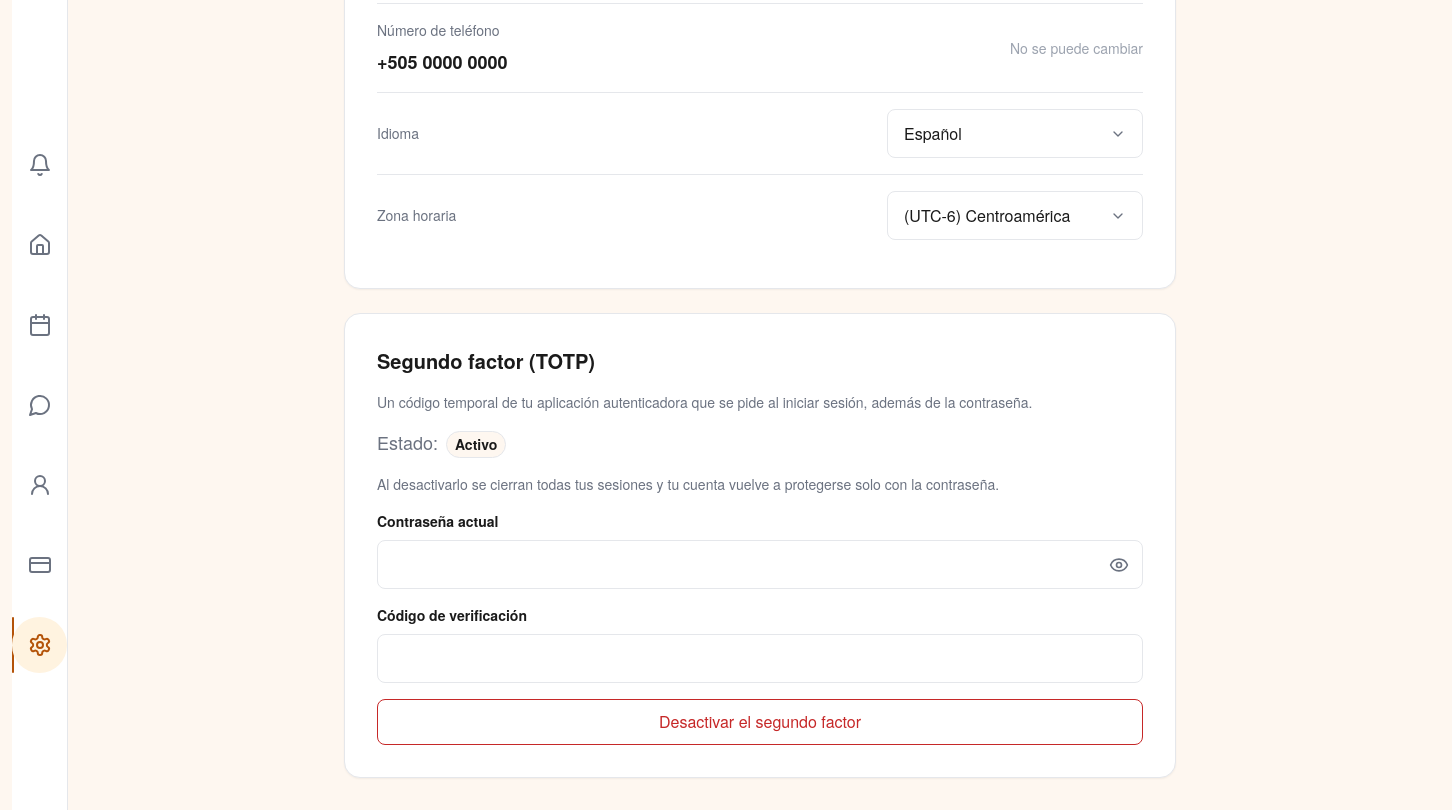
Test case: seguridad de la cuenta › segundo factor › ofrece desactivarlo cuando ya está activo y devuelve al inicio de sesión
(page scrolled)
Type "Moica2026$segura" into the password field labelled "Contraseña actual" at (760, 564), box [377,540,1143,589]
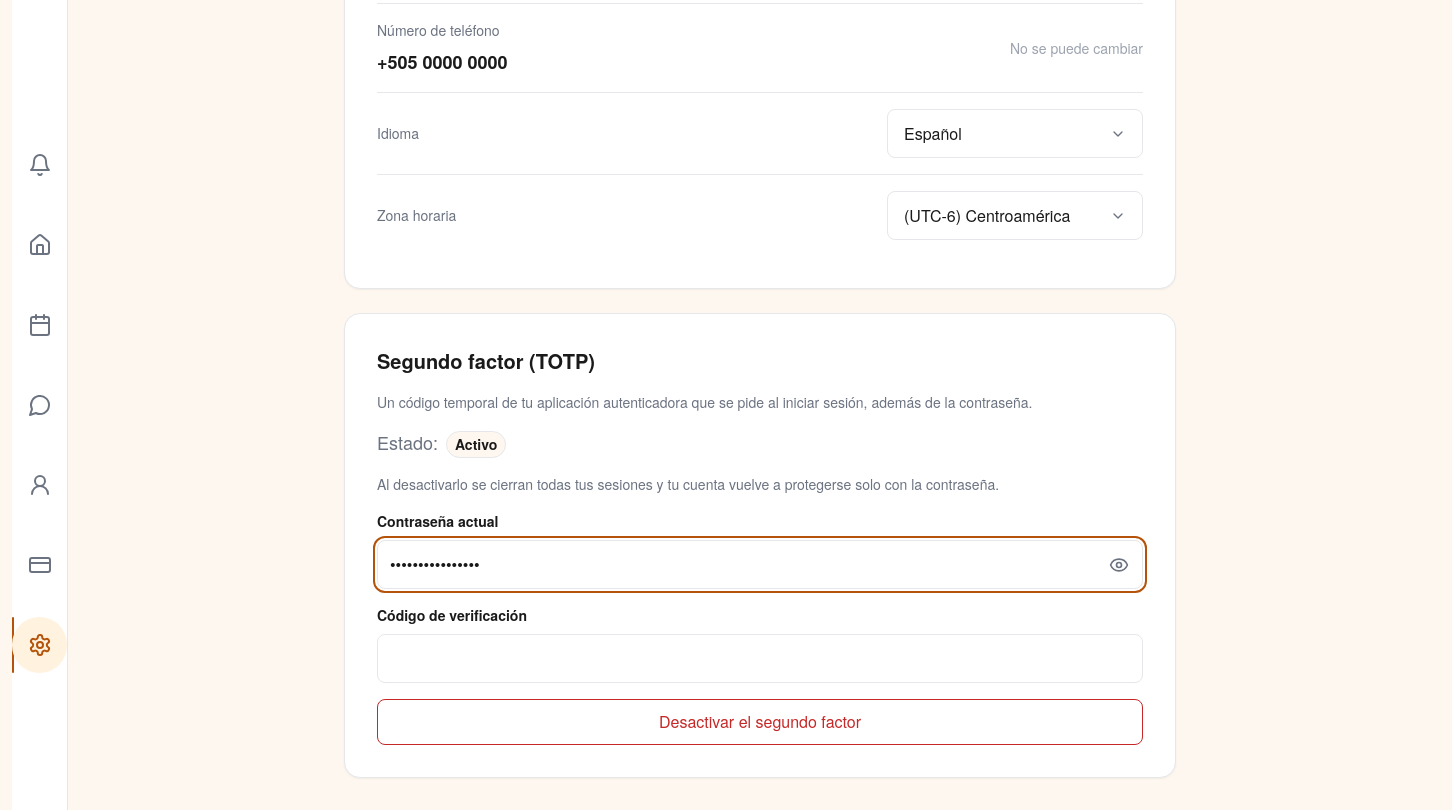
Type "123456" into the field labelled "Código de verificación" at (760, 658), box [377,634,1143,683]
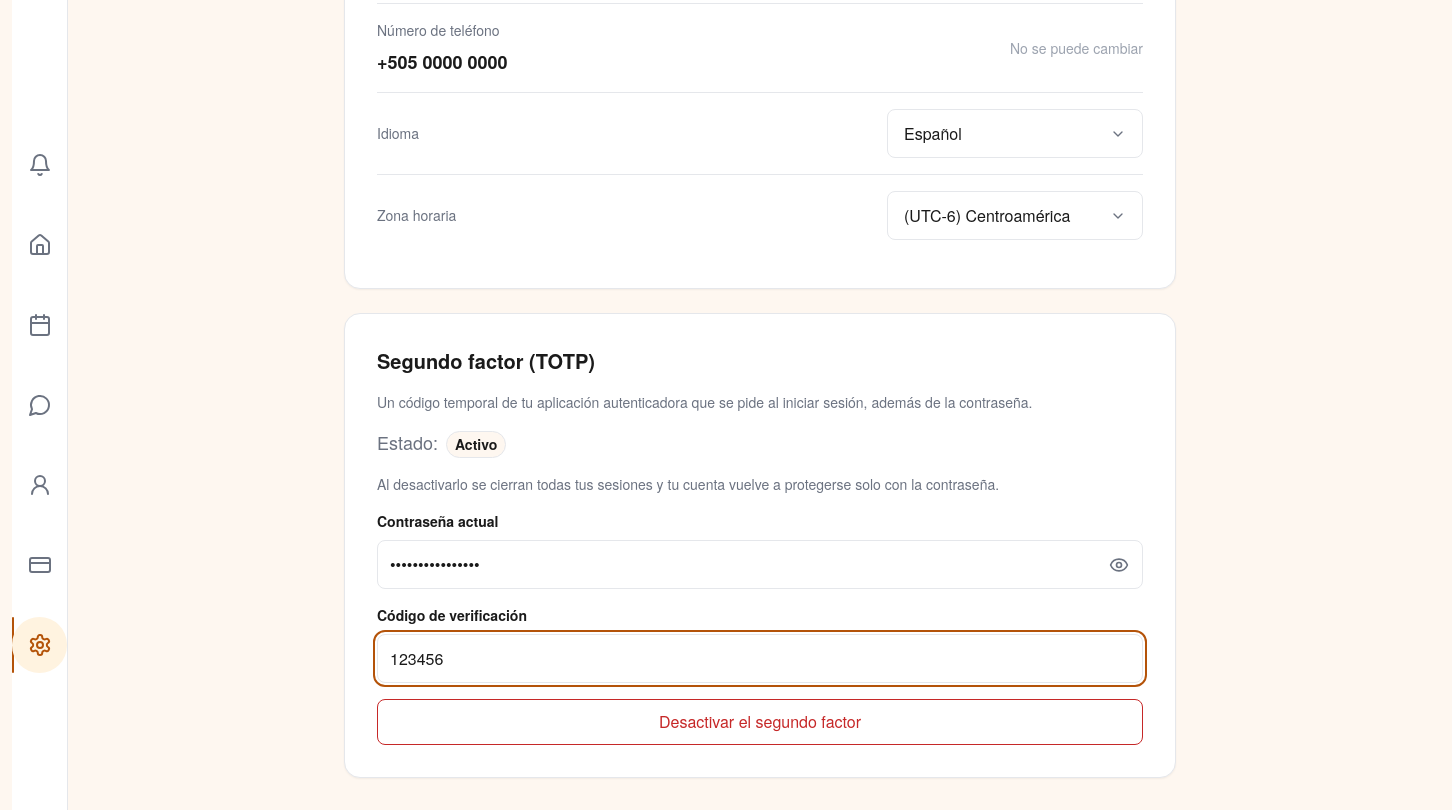
Click the button "Desactivar el segundo factor" at (760, 722), box [377,699,1143,745]
(page scrolled)
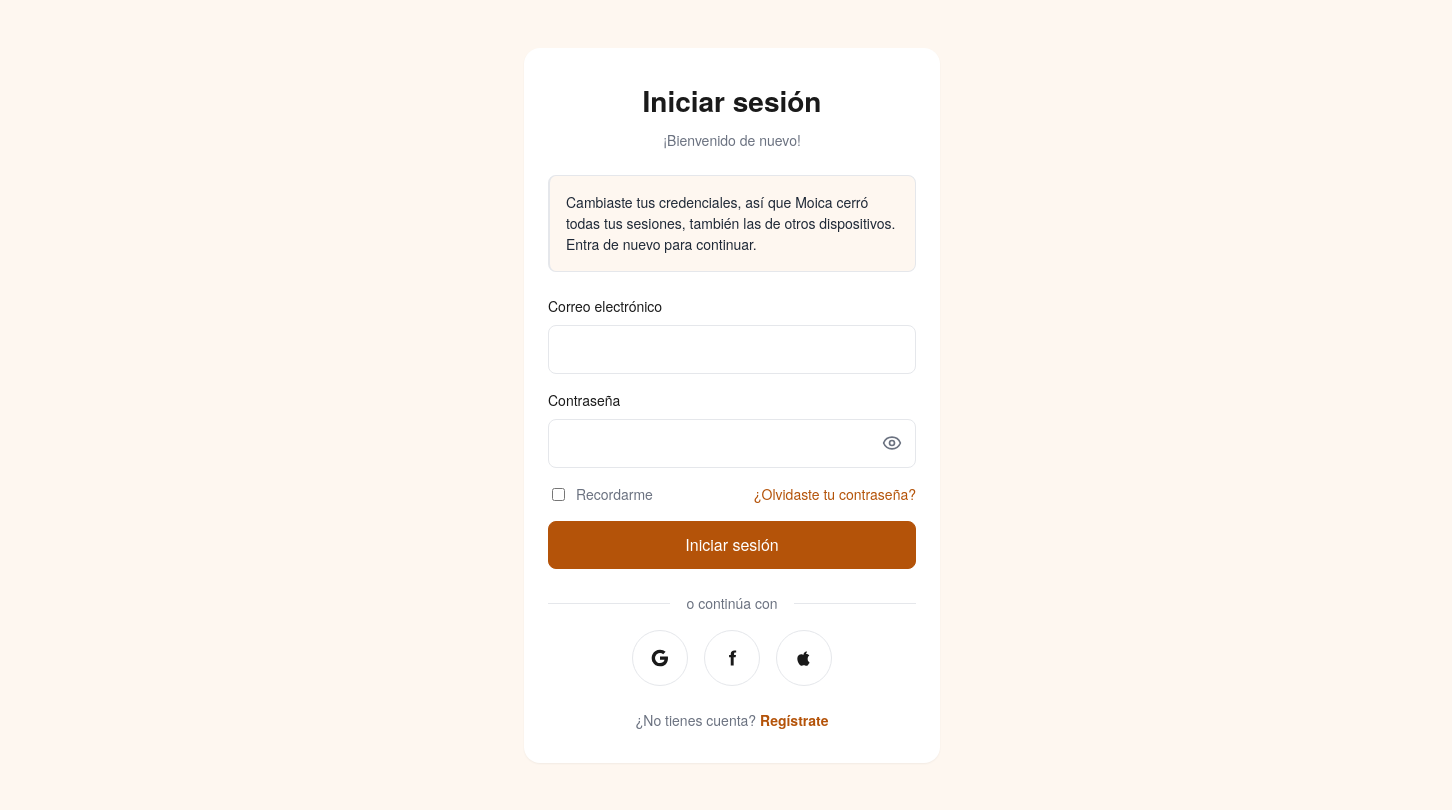
expect the heading "Iniciar sesión" is shown: met, box [642,80,822,120]
